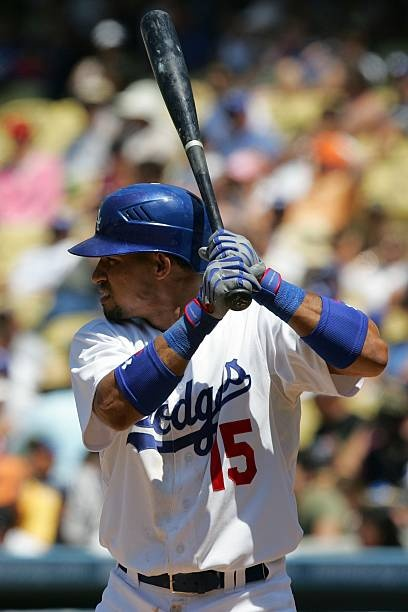bita: (135, 14, 250, 308)
